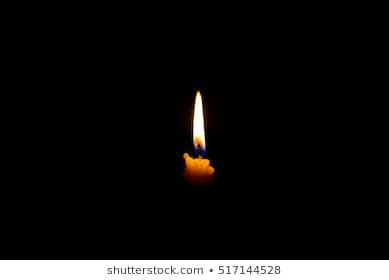fire: (186, 87, 211, 165)
